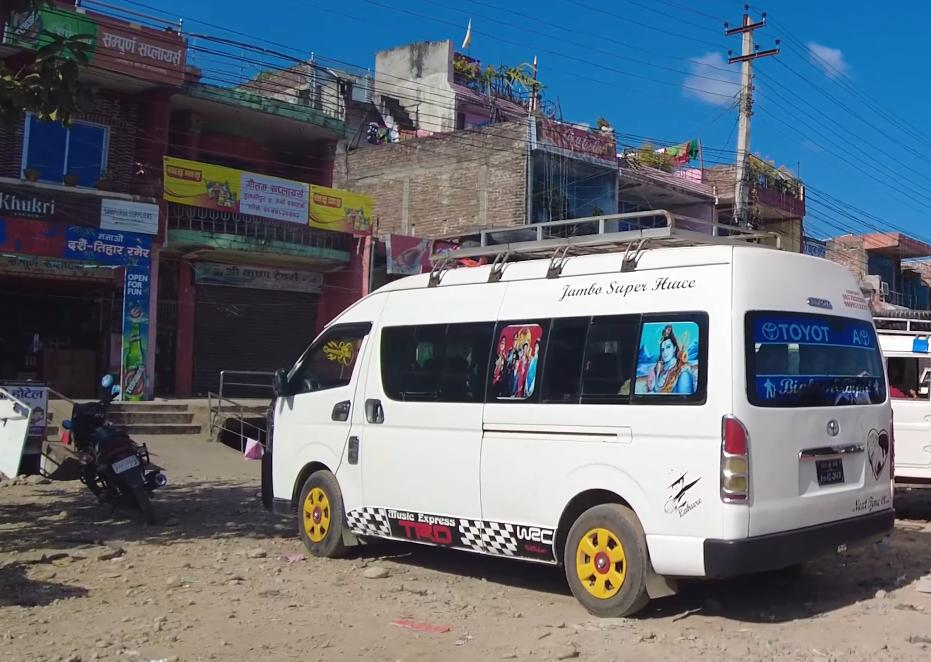bike: (65, 385, 170, 528)
micro_bus: (255, 226, 898, 613)
